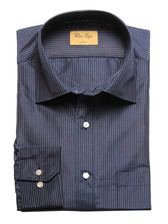clothoes: (5, 17, 157, 213)
